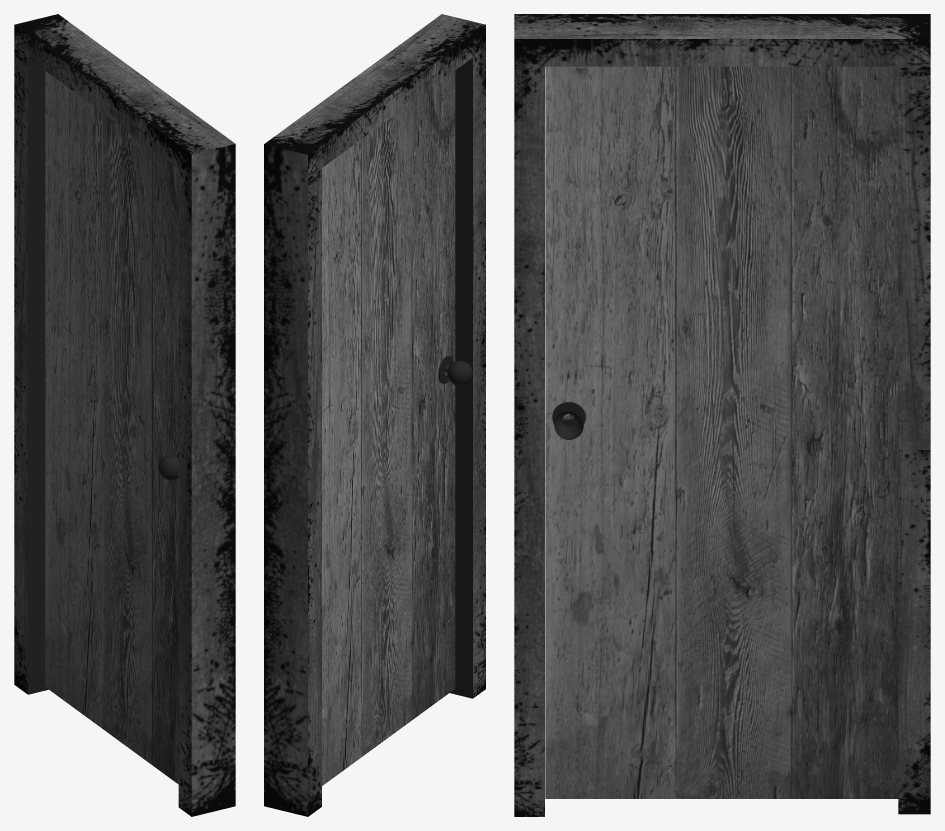
Rendered from Porta.fbx.
3 renders of one model, left to right at view 1: azimuth 30°, elevation 25°; view 2: azimuth 150°, elevation 25°; view 3: azimuth 270°, elevation 25°, orthographic. The views are drawn at different scales.
Visible parts, largest first — view 1: Porta.003, Borda.003, Cylinder.003; view 2: Porta.003, Borda.003, Cylinder.003; view 3: Porta.003, Borda.003, Cylinder.003.
Part boxes in pixels (x1,y1,x2,y2): Porta.003: (45,71,178,784); Borda.003: (14,14,235,816); Cylinder.003: (158,452,178,480); Porta.003: (322,71,455,785); Borda.003: (264,14,485,816); Cylinder.003: (438,355,472,385); Porta.003: (545,66,898,798); Borda.003: (514,14,930,816); Cylinder.003: (552,402,585,439).
Bounding box in the file's own units: 49.63 × 537 × 260.
Materials: 1 (1 with a texture image).
